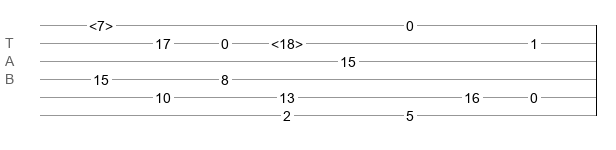0: (221, 36, 229, 46), (406, 18, 414, 28), (530, 90, 538, 100)
1: (530, 36, 538, 46)
10: (155, 90, 171, 100)
13: (279, 90, 295, 100)
15: (93, 72, 109, 82), (340, 54, 356, 64)
16: (464, 90, 480, 100)
17: (155, 36, 171, 46)
2: (283, 108, 291, 118)
5: (406, 108, 414, 118)
8: (221, 72, 229, 82)
harmonic: (271, 36, 303, 46), (89, 18, 113, 28)
